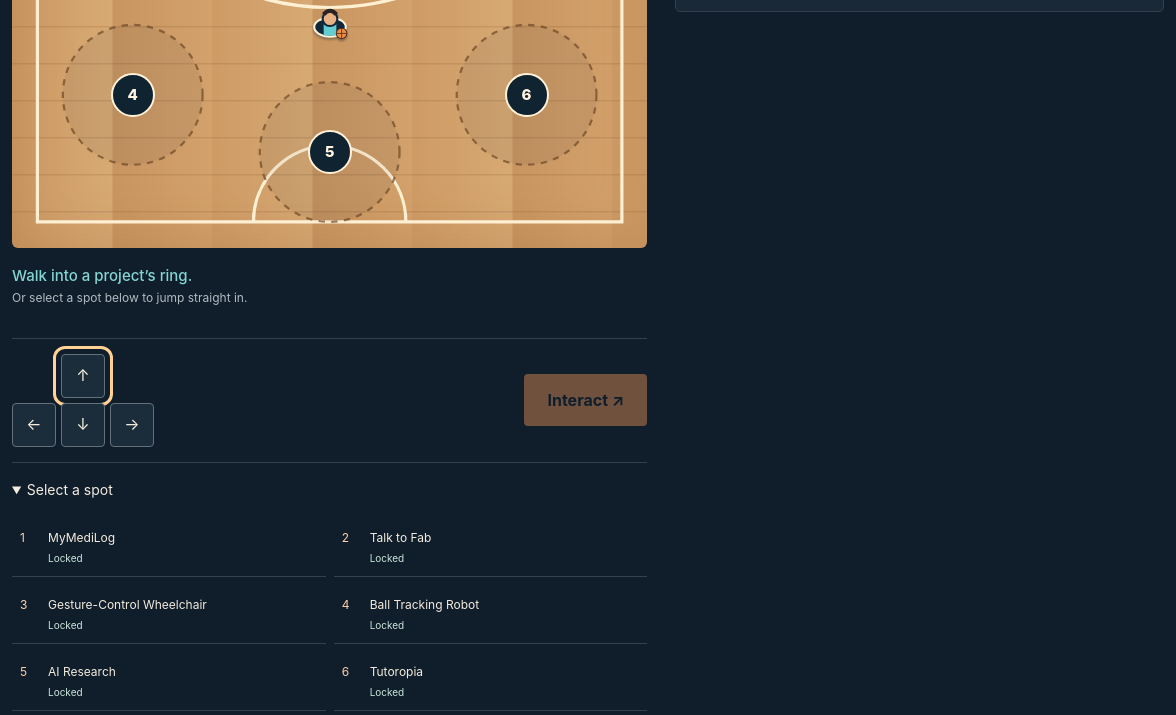
movable player › supports direction pad keyboard steps and Interact without precise movement
(page scrolled)
Press Enter
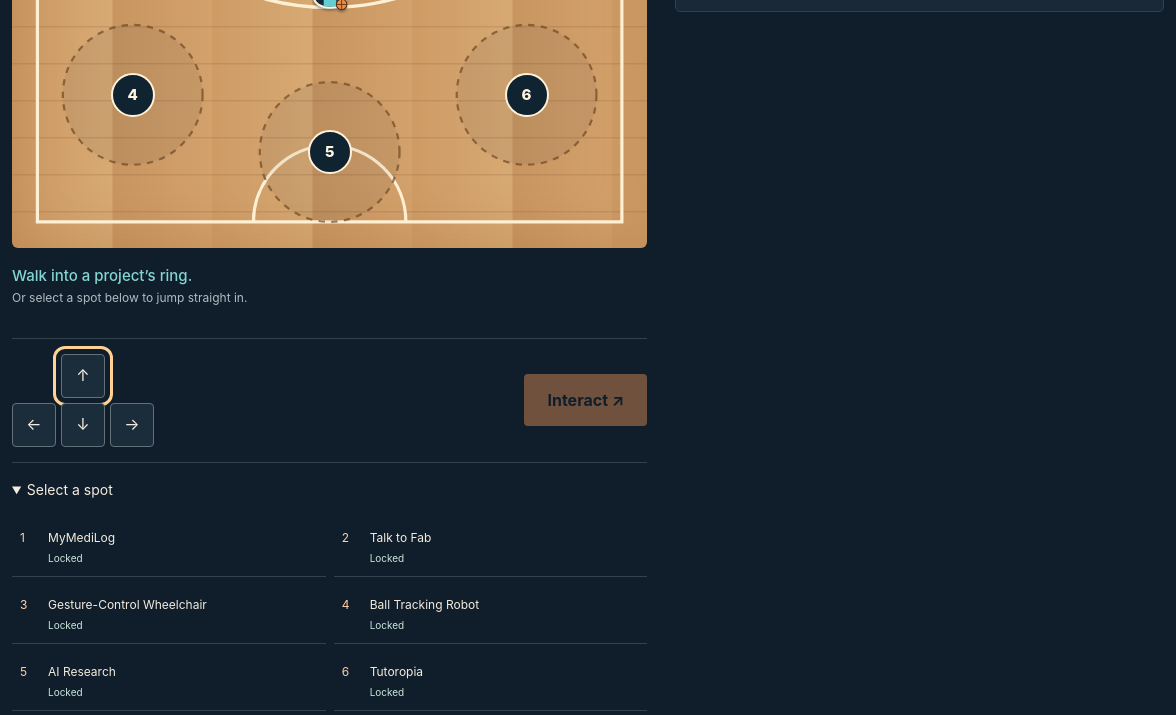
Press Enter
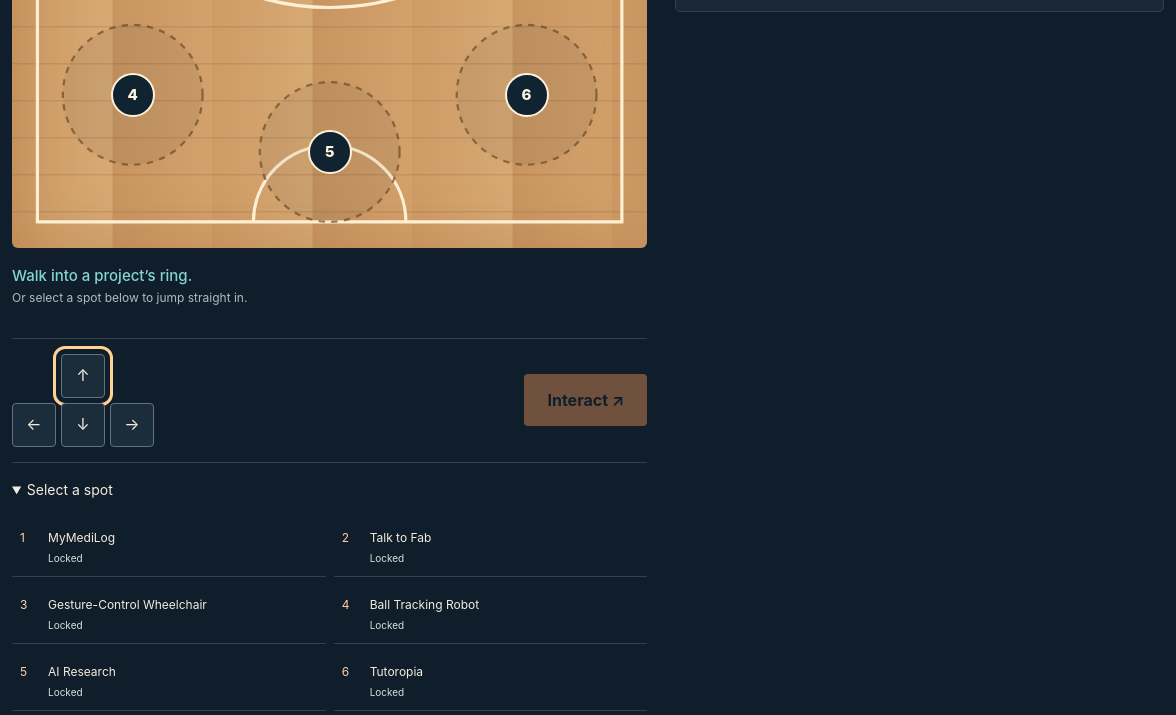
Press Enter
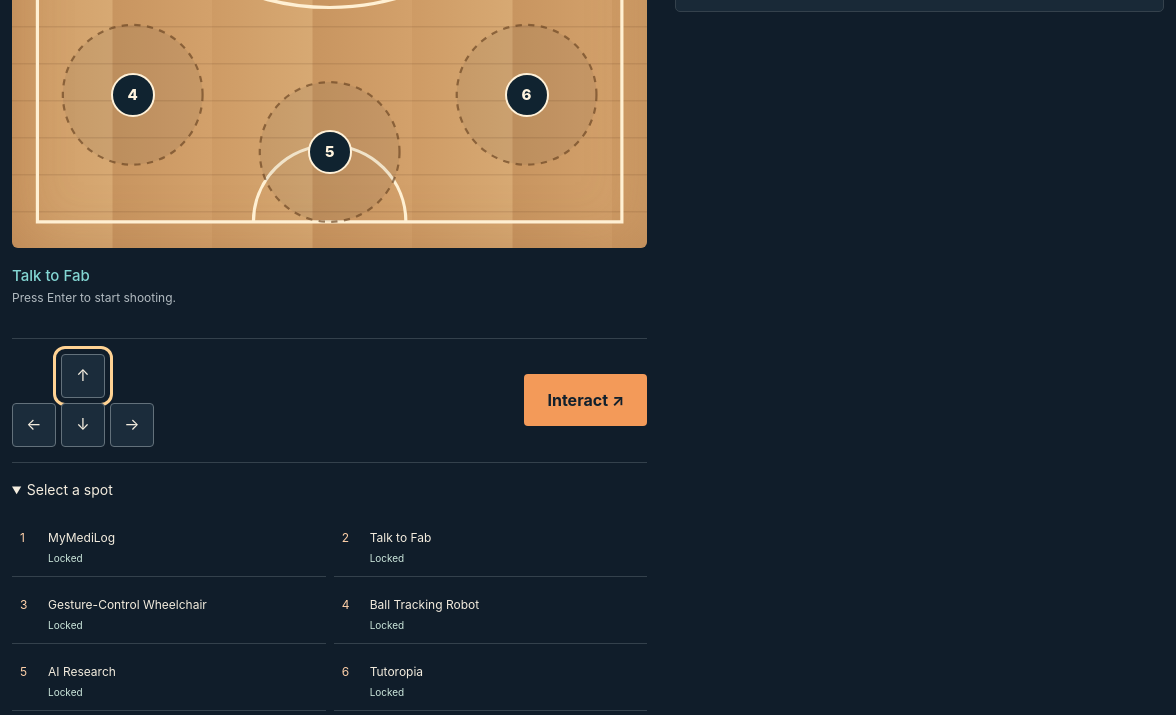
Expected: the button "Interact ↗" is enabled
Click the button "Interact ↗".
click(586, 400)  # box [524,374,647,426]
(page scrolled)
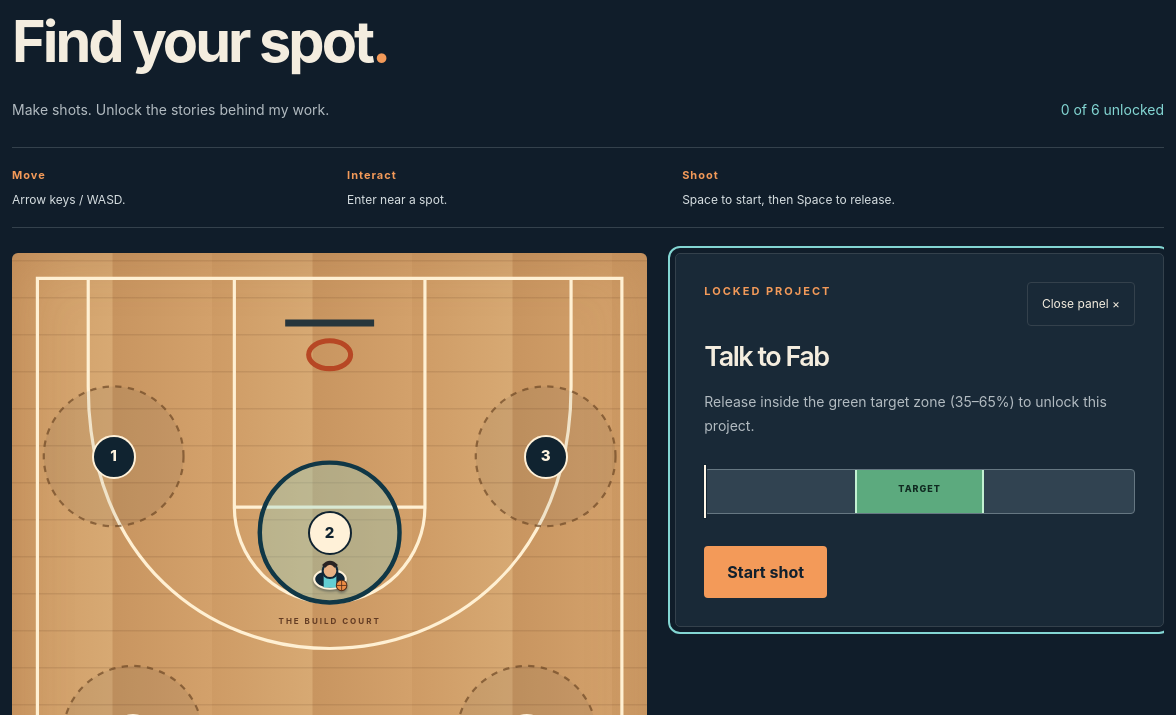
Expected: the heading "Talk to Fab" is shown, [704,340,829,373]
